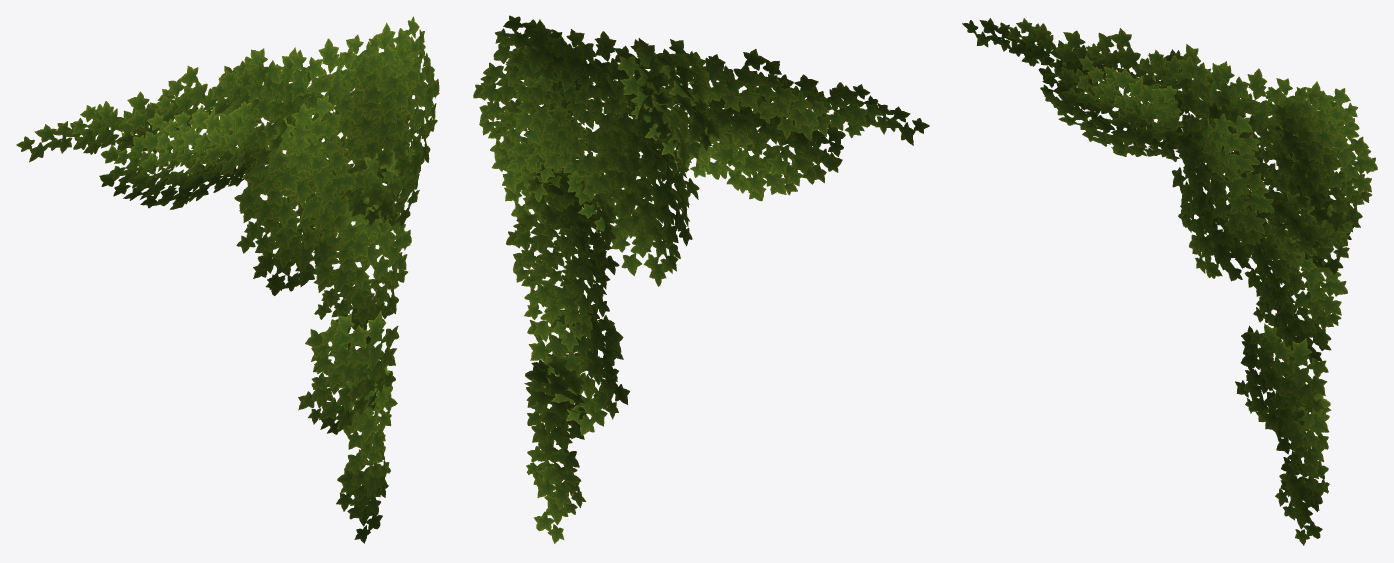
File: SM_fwOF_IvyGroup_06.fbx
The picture shows the model from 3 angles, left to right: view 1: azimuth 30°, elevation 25°; view 2: azimuth 150°, elevation 25°; view 3: azimuth 330°, elevation 25°; orthographic projection. The views are drawn at different scales.
Parts seen in each view (by area): view 1: SM_fwOF_IvyGroup_06_LOD0; view 2: SM_fwOF_IvyGroup_06_LOD0; view 3: SM_fwOF_IvyGroup_06_LOD0.
Part boxes in pixels (<box>): SM_fwOF_IvyGroup_06_LOD0: <box>16,16,439,543</box>; SM_fwOF_IvyGroup_06_LOD0: <box>473,15,929,543</box>; SM_fwOF_IvyGroup_06_LOD0: <box>962,18,1377,545</box>.
Size of what is drawn, in the model's own units: 2.54 by 2.95 by 0.2538.
